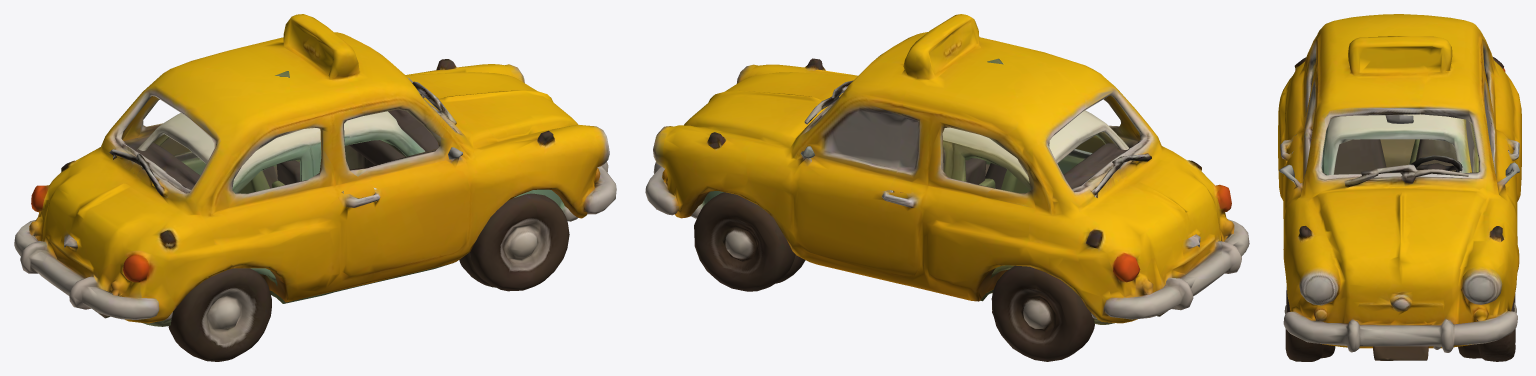
Rendered from voitures.glb.
3 renders of one model, left to right at view 1: azimuth 30°, elevation 25°; view 2: azimuth 150°, elevation 25°; view 3: azimuth 270°, elevation 25°, orthographic. The views are drawn at different scales.
Visible parts, largest first — view 1: taxi, voiture-citadine; view 2: taxi, voiture-citadine; view 3: taxi, voiture-citadine.
Part boxes in pixels (<box>): taxi: <box>14,14,616,361</box>; voiture-citadine: <box>94,111,578,326</box>; taxi: <box>645,14,1249,361</box>; voiture-citadine: <box>691,110,1167,324</box>; taxi: <box>1278,14,1521,361</box>; voiture-citadine: <box>1321,114,1481,358</box>.
Size of the model in its own units: 4 by 1.83 by 1.62.
1 material, 1 textured.
